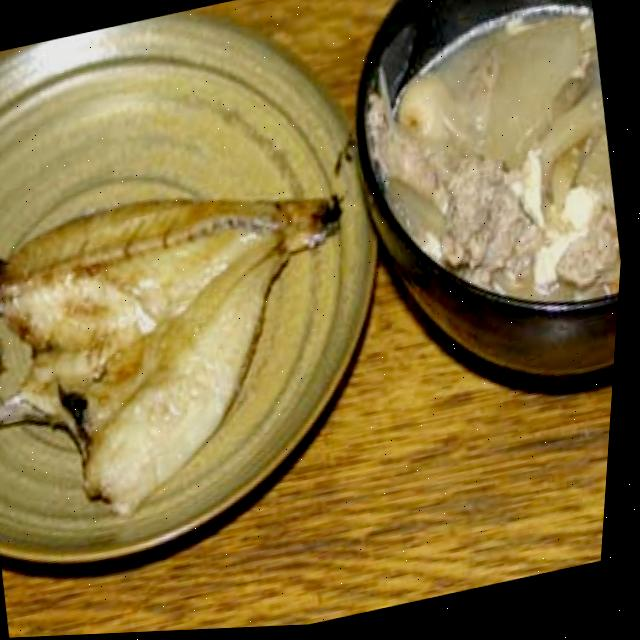熟制海鲜: (0, 118, 404, 551)
